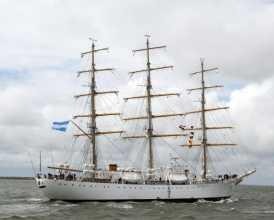fanchuan: (31, 34, 258, 201)
